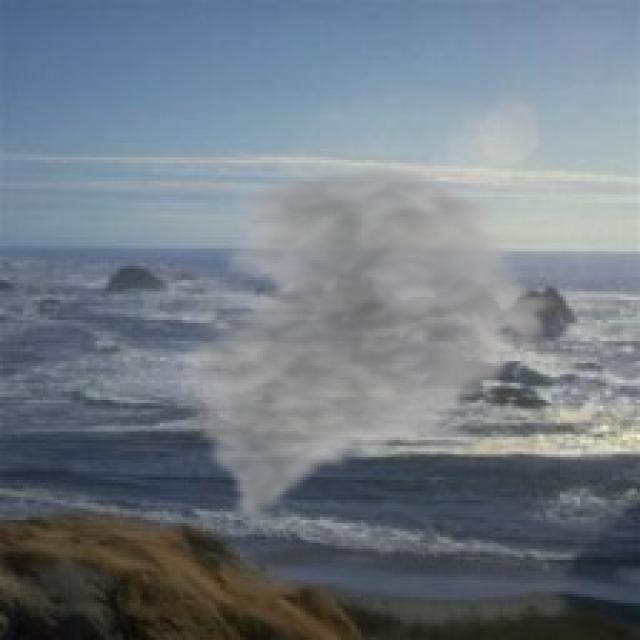smoke: (171, 160, 563, 523)
